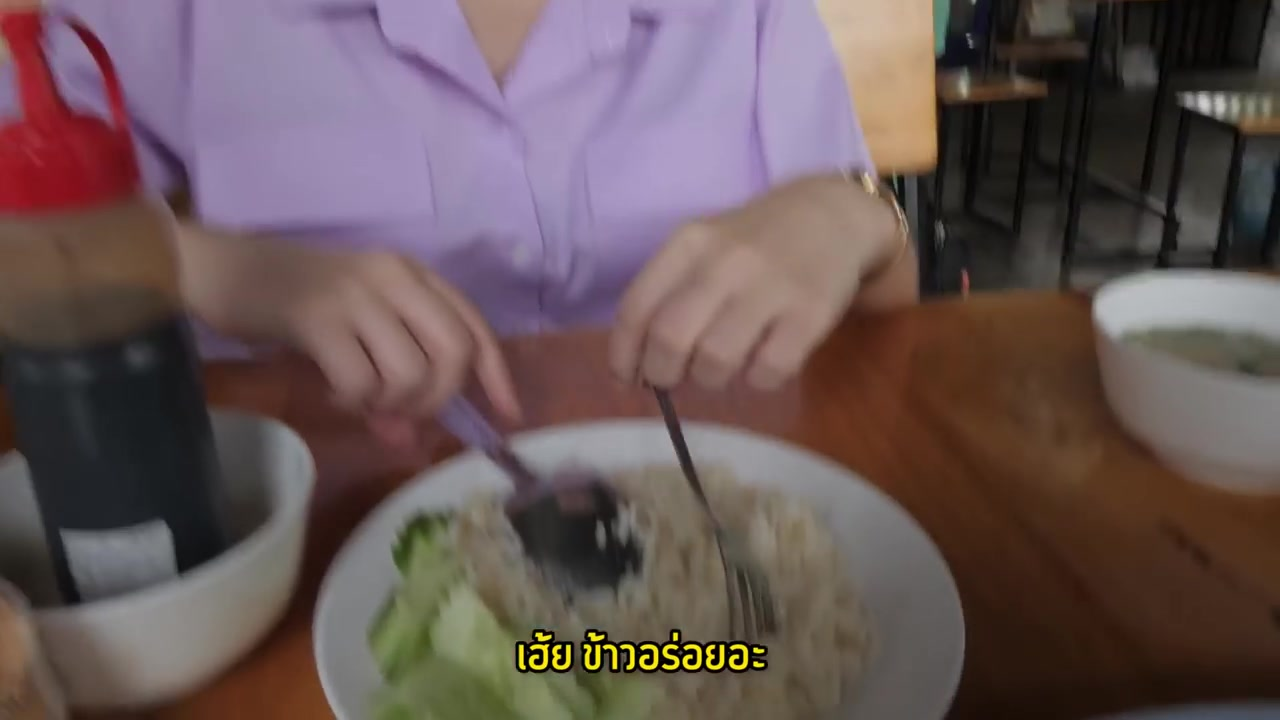text-label: (514, 626, 770, 675)
